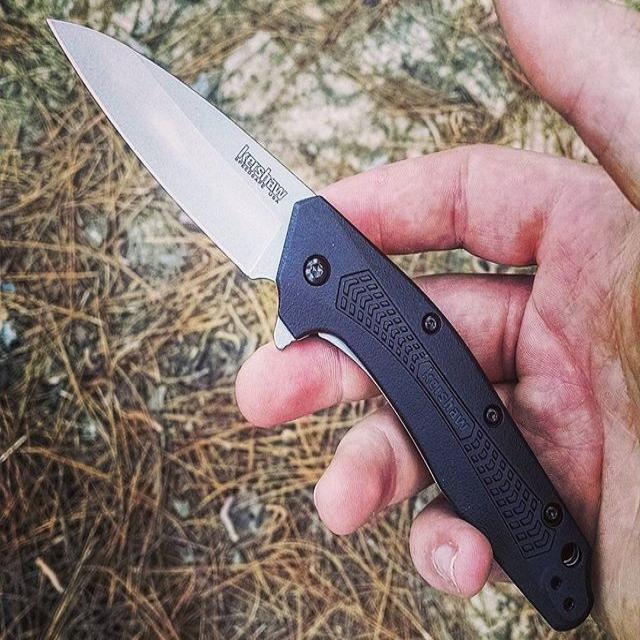knife: (40, 11, 601, 635)
